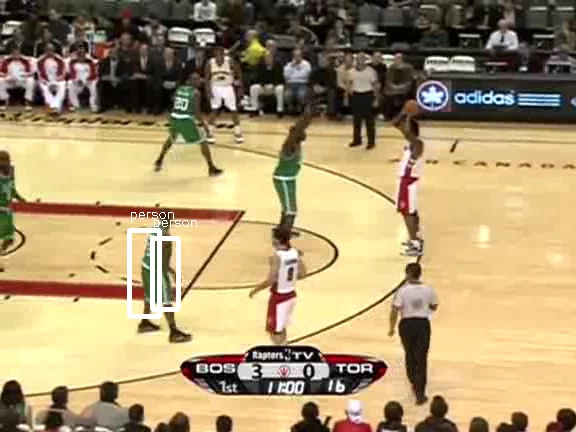person: (141, 227, 175, 308), (140, 227, 174, 308), (142, 227, 176, 308), (141, 226, 175, 307), (141, 228, 175, 309)
target_negative: (10, 191, 536, 295), (29, 235, 303, 421), (38, 233, 310, 322), (263, 335, 437, 358), (309, 38, 442, 44), (247, 422, 406, 426)
